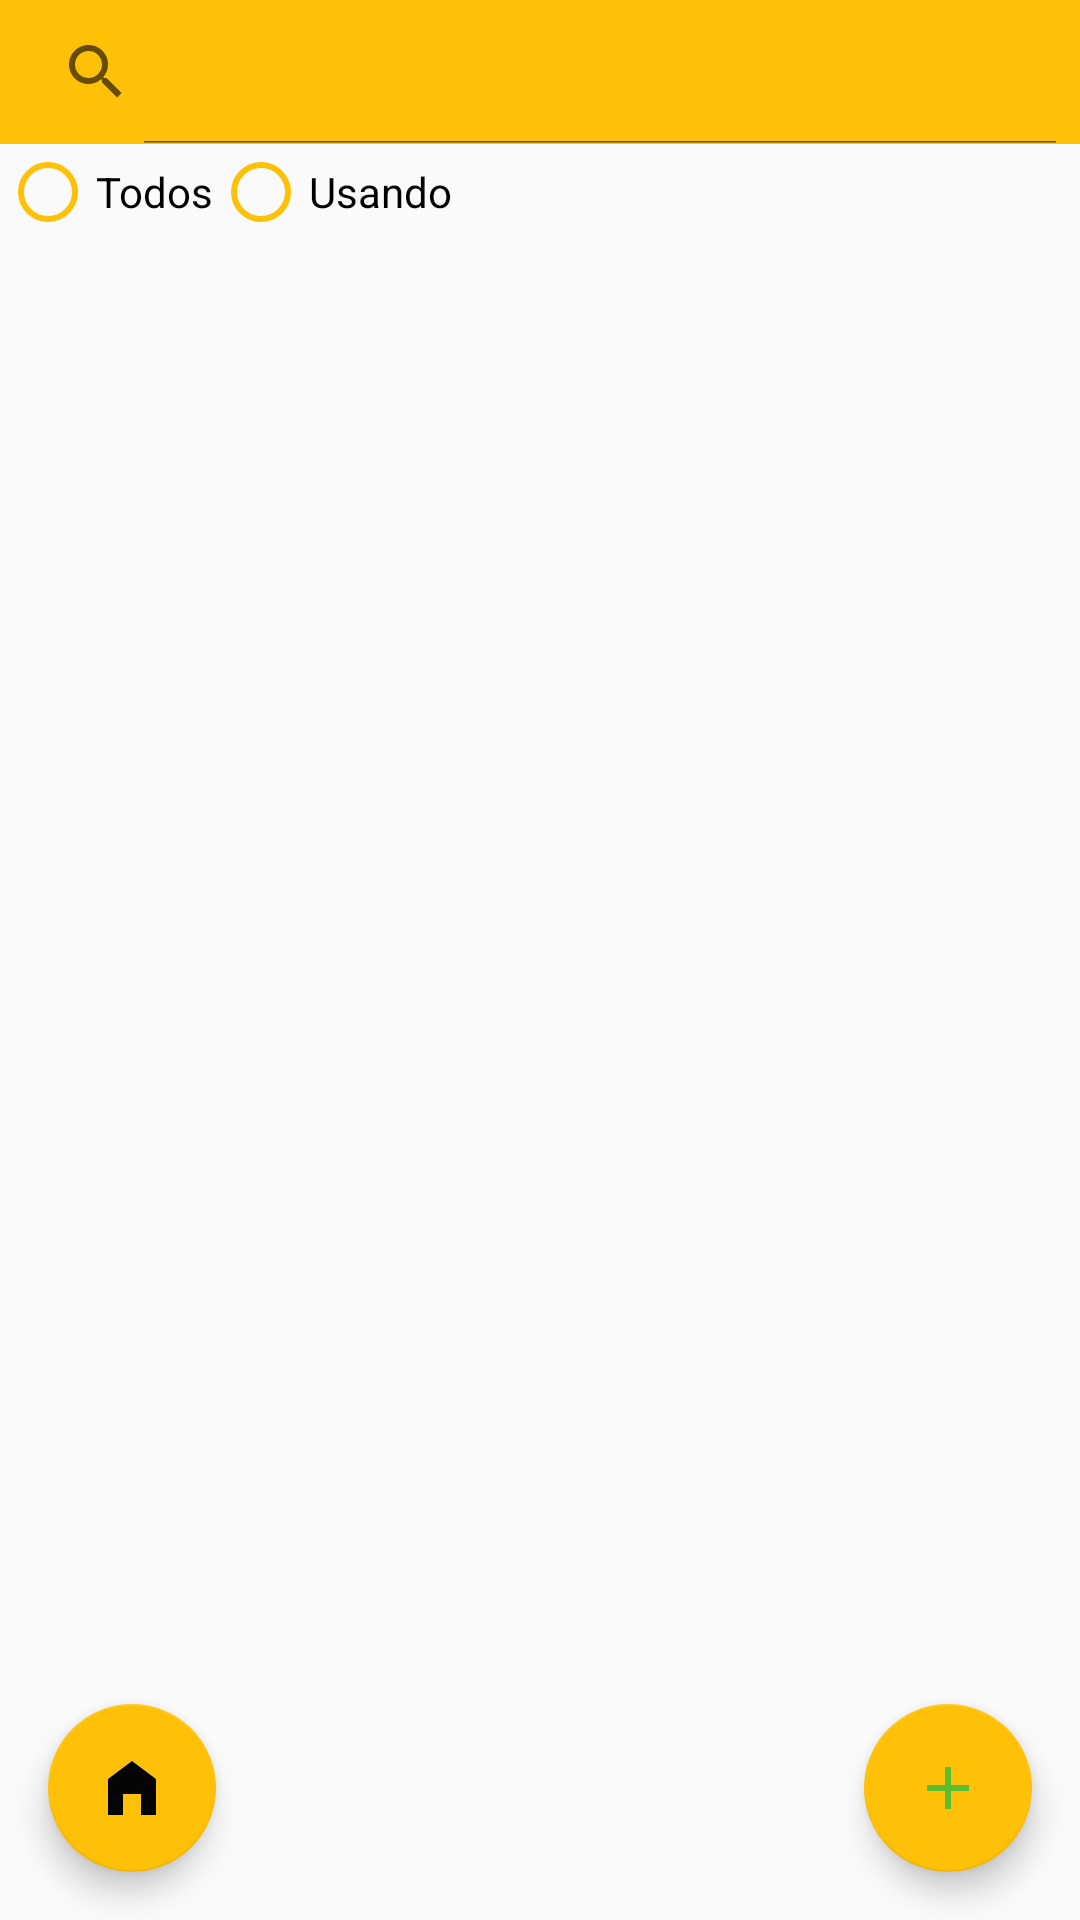

Named icons in this screenshot (1080 x 1920) and their centers, point (x, y):
add: point (948, 1788)
home: point (132, 1788)
